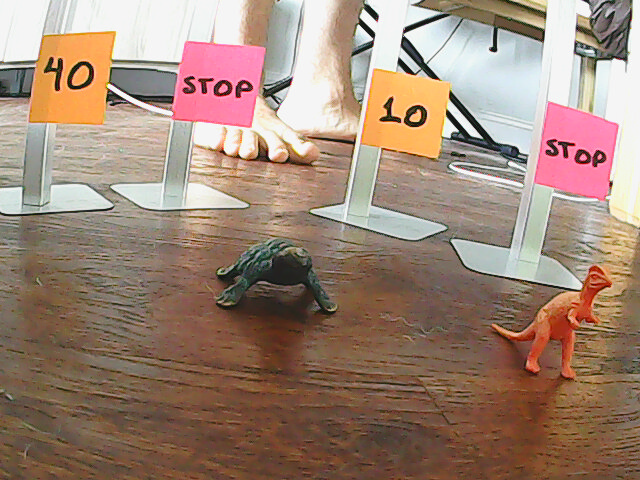10: (372, 78, 438, 144)
40: (39, 37, 104, 119)
dinosaur: (485, 257, 617, 386)
stop: (182, 51, 257, 114), (543, 125, 609, 188)
turtle: (211, 223, 346, 327)
